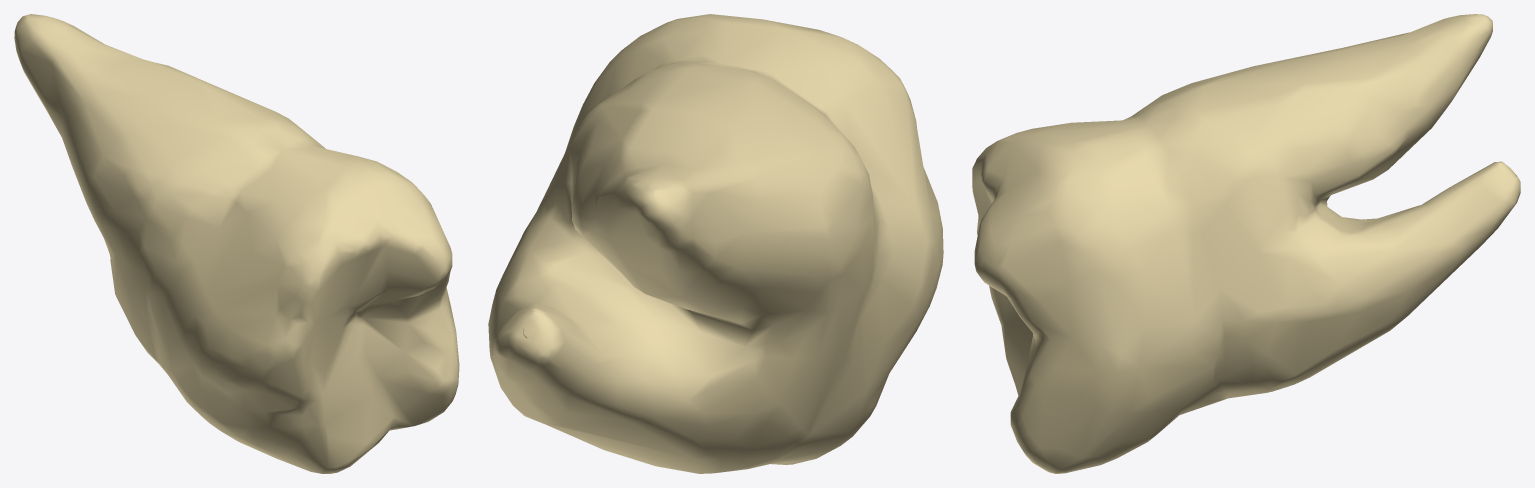
3 renders of one model, left to right at view 1: azimuth 30°, elevation 25°; view 2: azimuth 150°, elevation 25°; view 3: azimuth 270°, elevation 25°, orthographic. The views are drawn at different scales.
Visible parts, largest first — view 1: 右侧下颌第一磨牙; view 2: 右侧下颌第一磨牙; view 3: 右侧下颌第一磨牙.
Boxes of the visible parts, box(x1,y1,x2,y2) form: 右侧下颌第一磨牙: box(14, 14, 459, 473); 右侧下颌第一磨牙: box(488, 14, 943, 473); 右侧下颌第一磨牙: box(972, 14, 1520, 473).
Size of the model in its own units: 0.0178 by 0.0217 by 0.0284.
